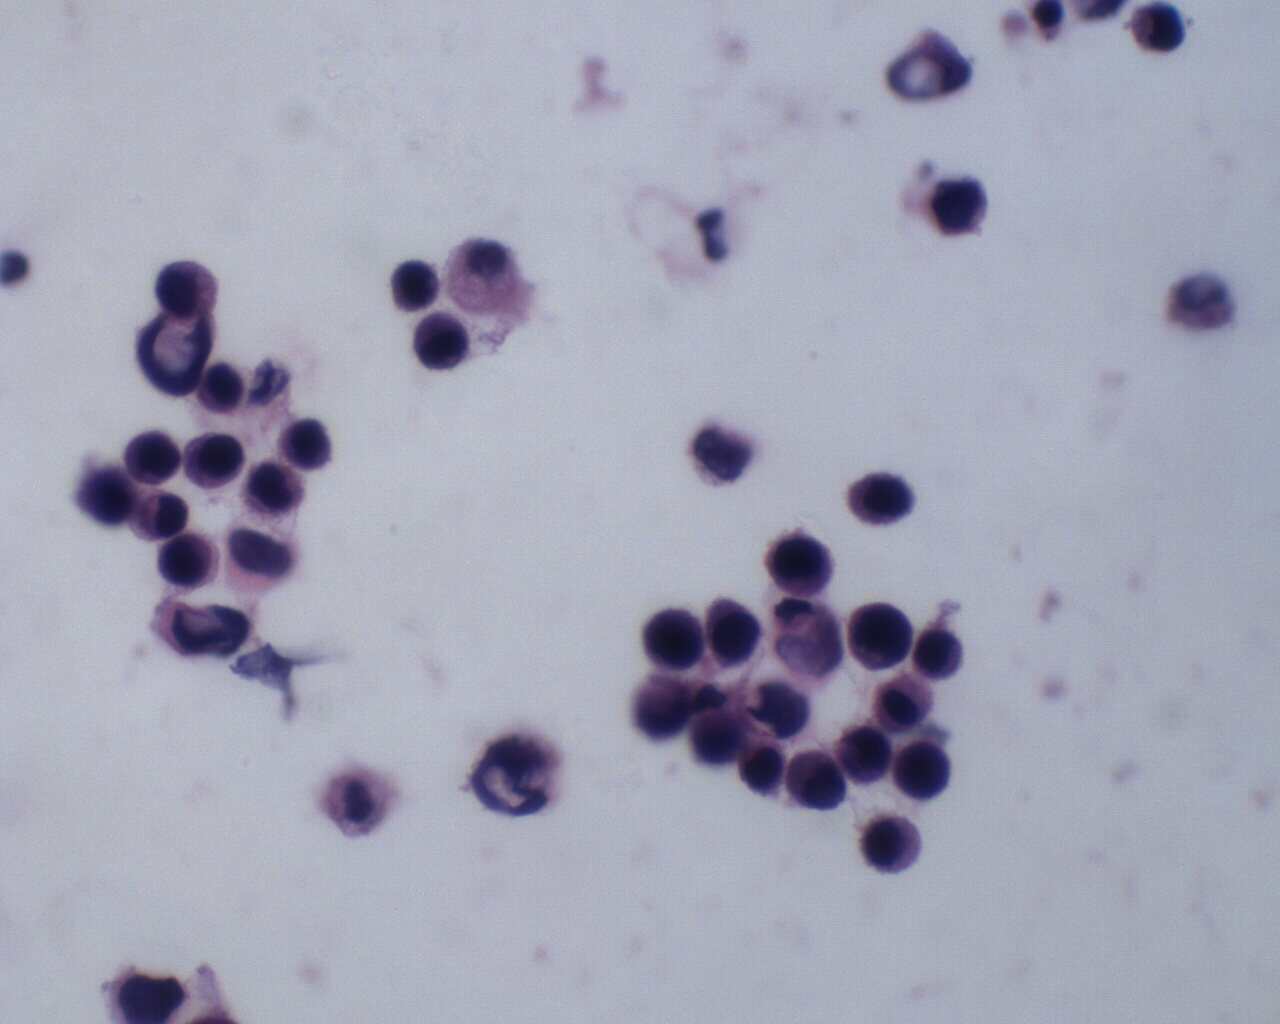ab: (847, 602, 915, 675), (766, 528, 837, 597), (155, 255, 225, 322), (703, 595, 763, 670), (639, 605, 705, 673), (181, 430, 248, 494), (845, 466, 915, 527), (786, 748, 850, 814), (405, 311, 471, 374), (684, 709, 749, 771), (893, 739, 953, 804), (241, 457, 305, 516), (158, 531, 217, 590), (123, 428, 183, 488), (836, 726, 894, 785), (913, 624, 965, 682)
meso: (441, 234, 531, 319)
